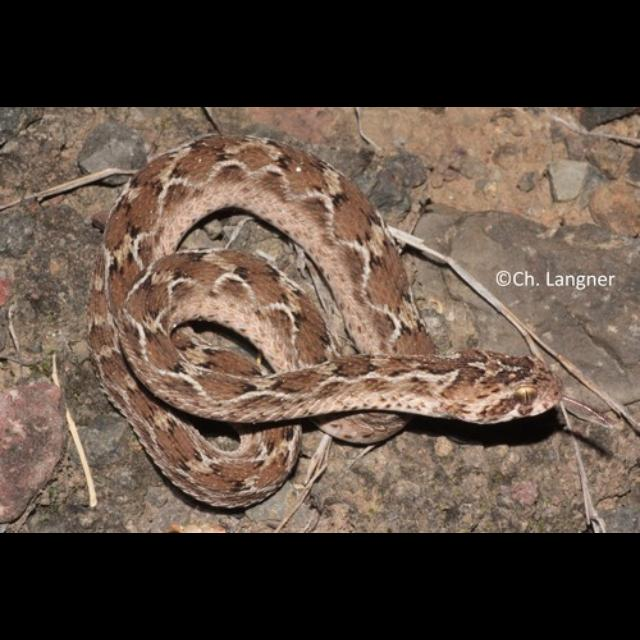snake: (84, 128, 570, 510)
